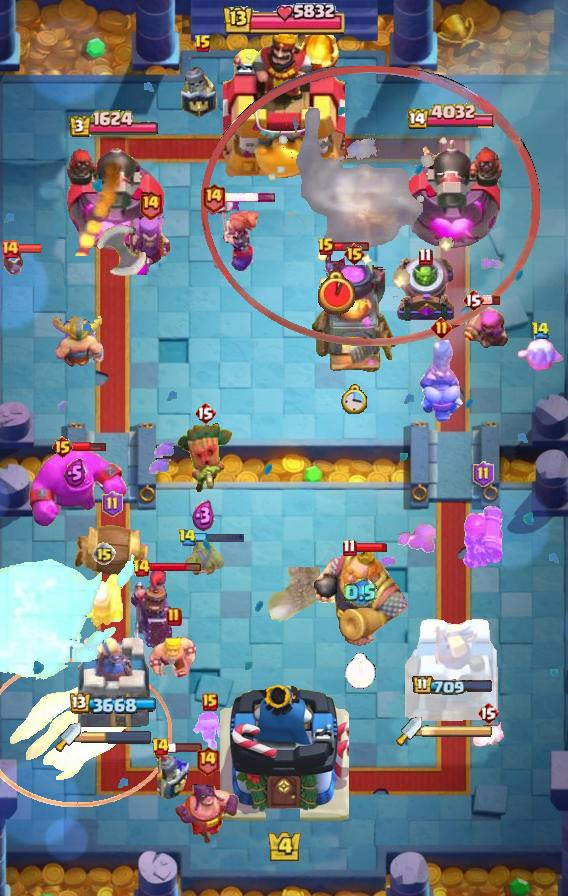axe: (80, 223, 148, 277)
bar: (194, 531, 246, 544), (149, 562, 202, 573), (224, 192, 277, 203), (167, 741, 203, 753), (72, 441, 107, 453), (333, 241, 370, 252), (7, 243, 43, 254), (354, 542, 388, 553), (482, 295, 501, 306)
bar-level: (195, 745, 220, 776), (138, 189, 163, 220), (201, 182, 226, 213), (92, 542, 116, 566), (51, 435, 74, 459), (343, 242, 366, 266), (102, 491, 123, 517), (473, 461, 494, 487), (477, 701, 499, 725), (194, 401, 216, 425), (462, 288, 484, 312), (431, 317, 452, 338), (0, 239, 20, 259), (151, 737, 170, 757), (132, 558, 151, 578), (178, 528, 197, 547), (531, 321, 550, 340), (317, 237, 335, 257), (194, 34, 212, 54), (166, 607, 182, 627), (202, 693, 218, 711), (342, 538, 357, 557), (418, 247, 433, 266)
barbarian: (148, 630, 200, 682)
barbarian-barrel: (72, 522, 152, 582)
bat: (323, 246, 349, 276), (1, 248, 25, 278)
cannoneer-tower: (400, 132, 507, 256), (64, 138, 165, 256)
clock: (318, 270, 355, 315), (345, 653, 376, 689), (341, 384, 368, 414)
dagger-duchess-tower: (405, 611, 501, 731), (75, 623, 153, 731)
dagger-duchess-tower-bar: (81, 730, 153, 744), (422, 724, 494, 738)
dart-goblin: (176, 418, 234, 496)
dirt: (266, 567, 329, 628)
elite-barbarian: (51, 316, 107, 370)
elixir: (344, 578, 377, 608), (192, 500, 215, 532), (64, 459, 86, 487)
executioner: (174, 768, 240, 846)
firecracker: (462, 298, 510, 352), (83, 571, 125, 629)
firecracker-evolution: (459, 492, 507, 572)
goblin: (181, 538, 225, 580)
guard: (180, 53, 226, 119), (150, 747, 192, 803)
ice-spirit-evolution: (515, 337, 565, 375)
king-tower: (220, 678, 349, 826), (223, 27, 345, 181)
king-tower-bar: (221, 0, 347, 40)
lava-pup: (470, 720, 506, 752)
mortar-evolution: (393, 254, 457, 324)
mother-witch: (127, 211, 173, 279)
ram-rider: (419, 340, 463, 422)
skeleton-evolution: (192, 712, 228, 752)
tower-bar: (68, 110, 160, 139), (408, 103, 498, 132), (70, 693, 159, 716), (412, 675, 494, 697)
valkyrie-evolution: (202, 195, 259, 274)
